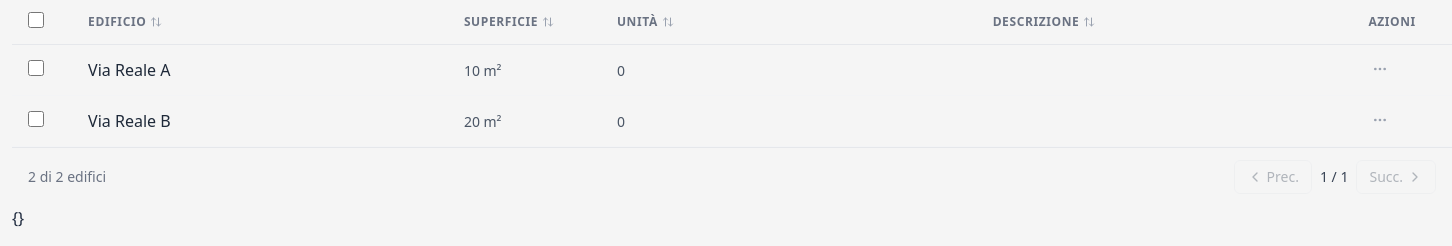
Test: A4 real building list › usa gli ID Building reali nella RowSelectionState
Click the checkbox next to "Via Reale B" at (36, 119), box [28,111,44,127]
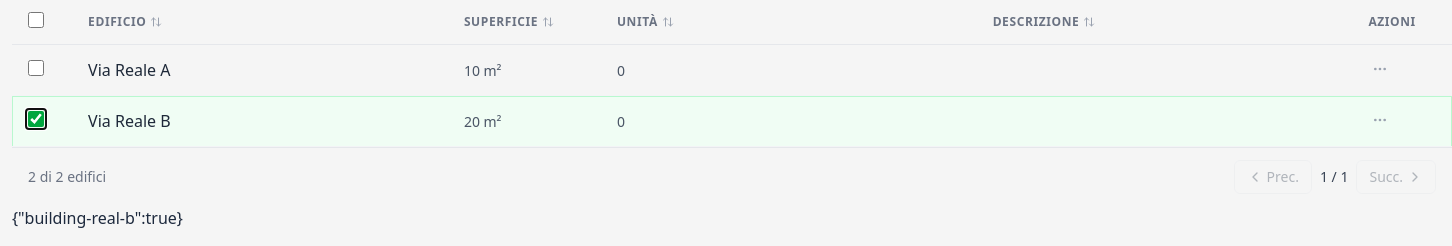
Now the text with test id "selection" reads "{\"building-real-b\":true}", box [12,207,183,229]
